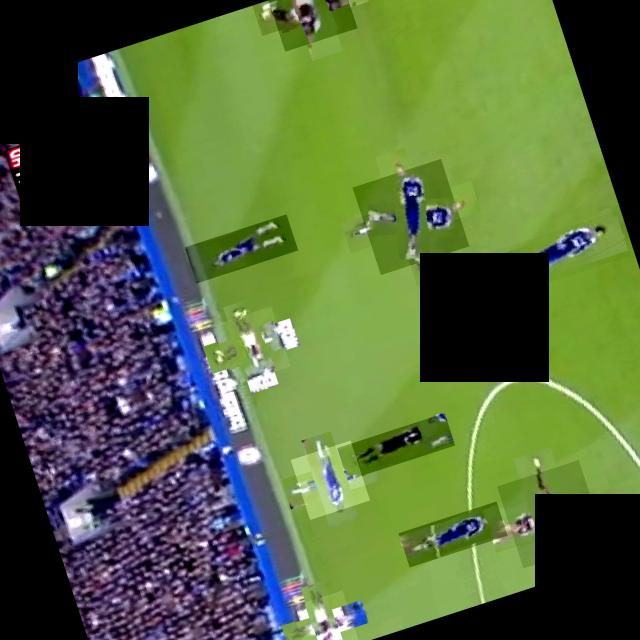referee: (336, 414, 454, 481)
soccer-player: (476, 212, 630, 302), (352, 159, 468, 275), (496, 461, 604, 568), (184, 214, 298, 284), (398, 502, 507, 568), (290, 441, 369, 520), (212, 306, 290, 386), (267, 0, 356, 52), (290, 590, 358, 640)
